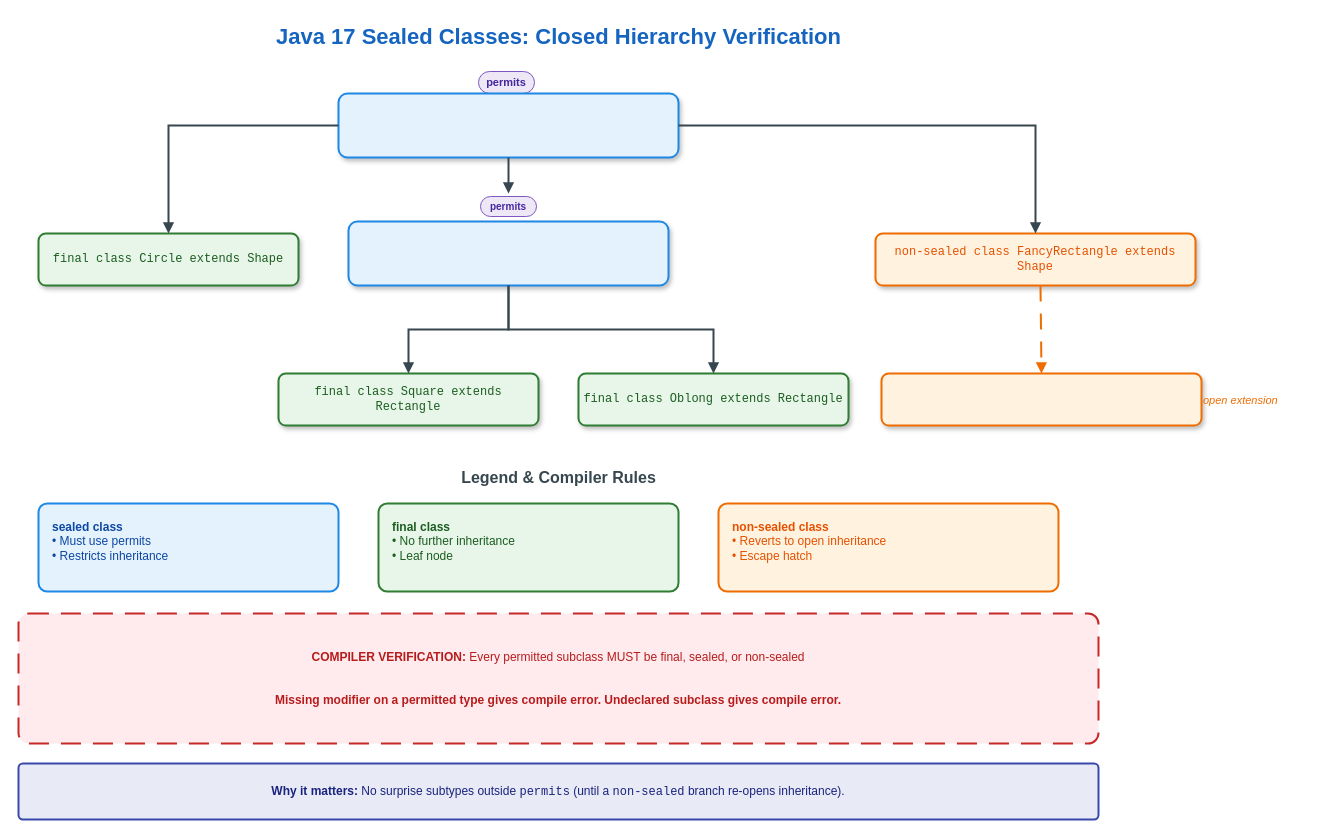
The diagram is 1318 pixels wide and 837 high, and some of its shapes have lost their labels. The shapes that lost their labels are listed below. From the top down, each one's centre as x and y in pixels, then its label:
(509,126): abstract sealed class Shape permits Circle, Rectangle, FancyRectangle
(509,254): sealed class Rectangle extends Shape permits Square, Oblong
(1042,400): class RoundedRectangle extends FancyRectangle
